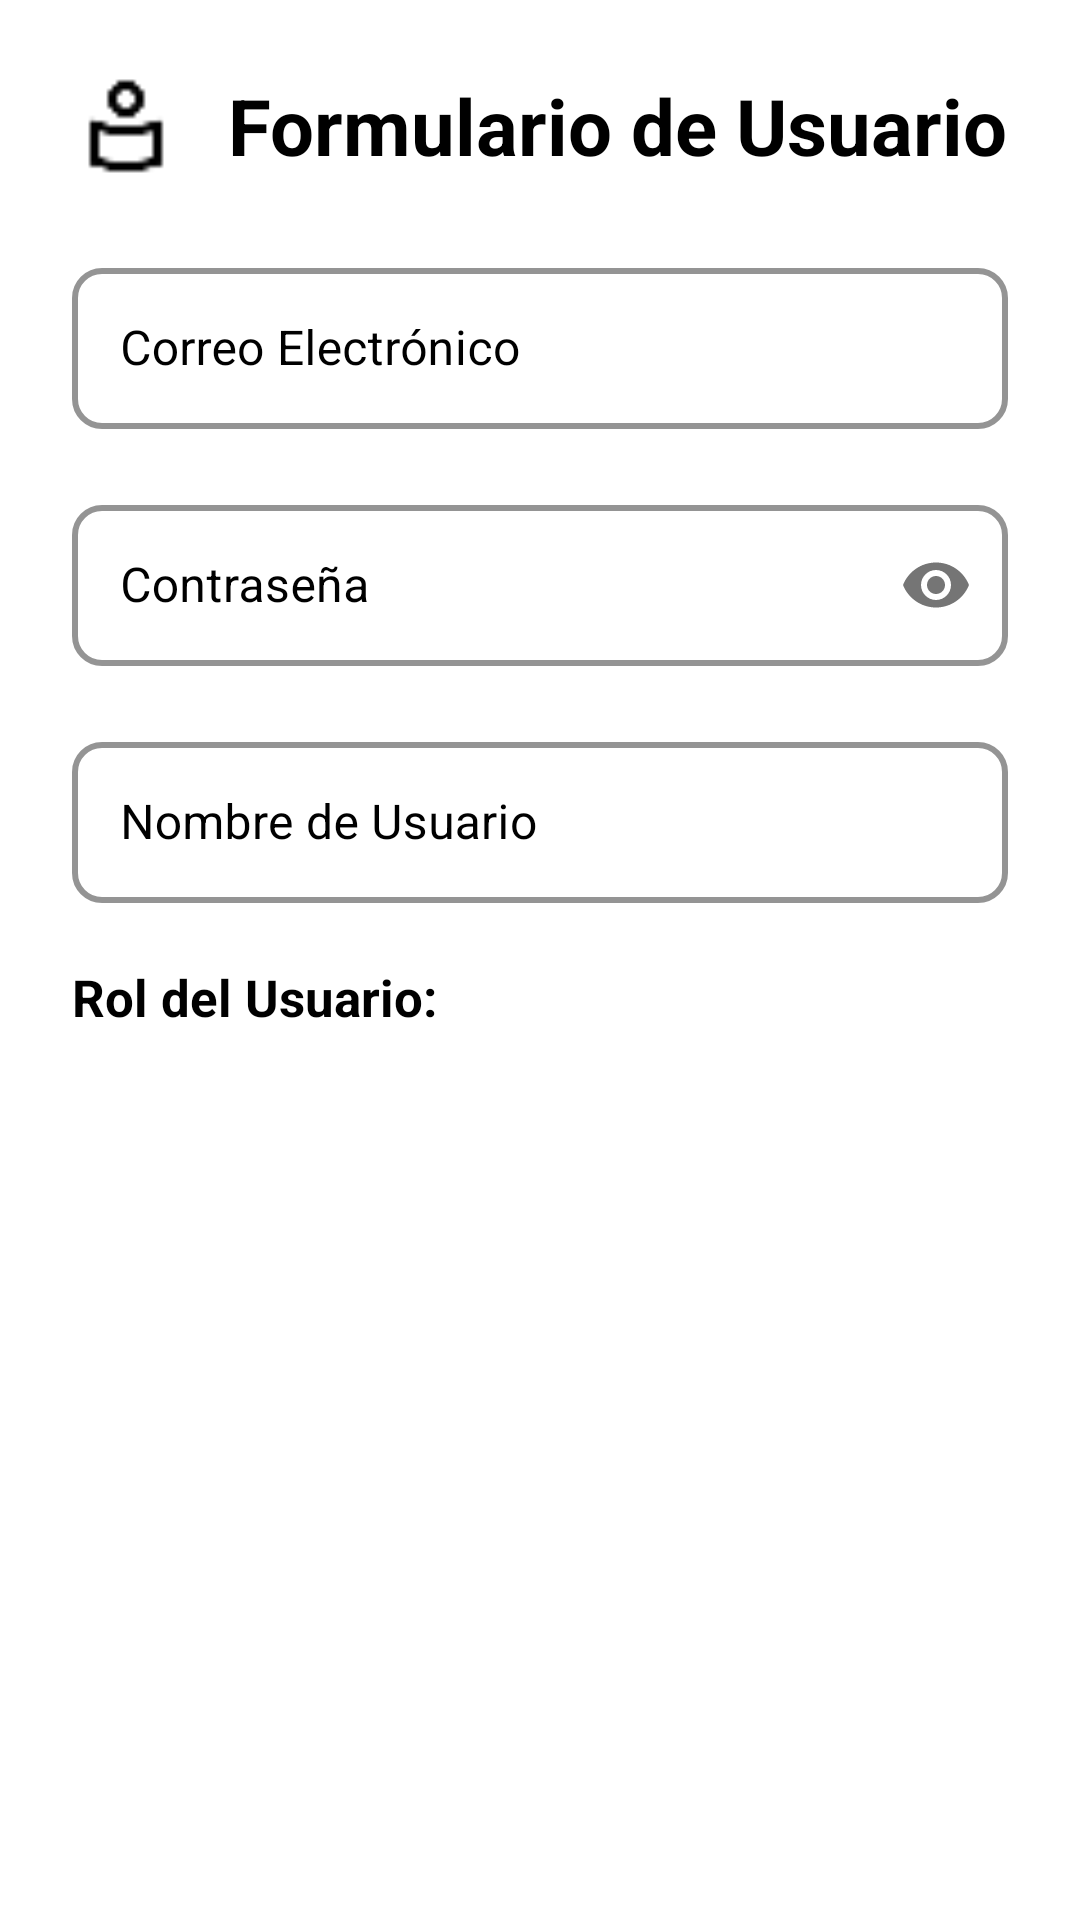

Where icons sit on this 1080x1920 app screen, as (x1, y1, x2, y2):
users: (88, 79, 164, 173)
